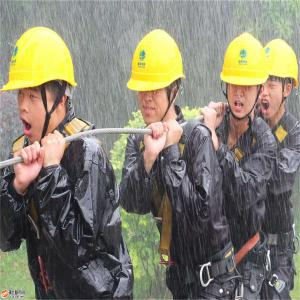yellow: (10, 28, 78, 138), (129, 29, 185, 124), (223, 32, 265, 118), (260, 38, 297, 120)
